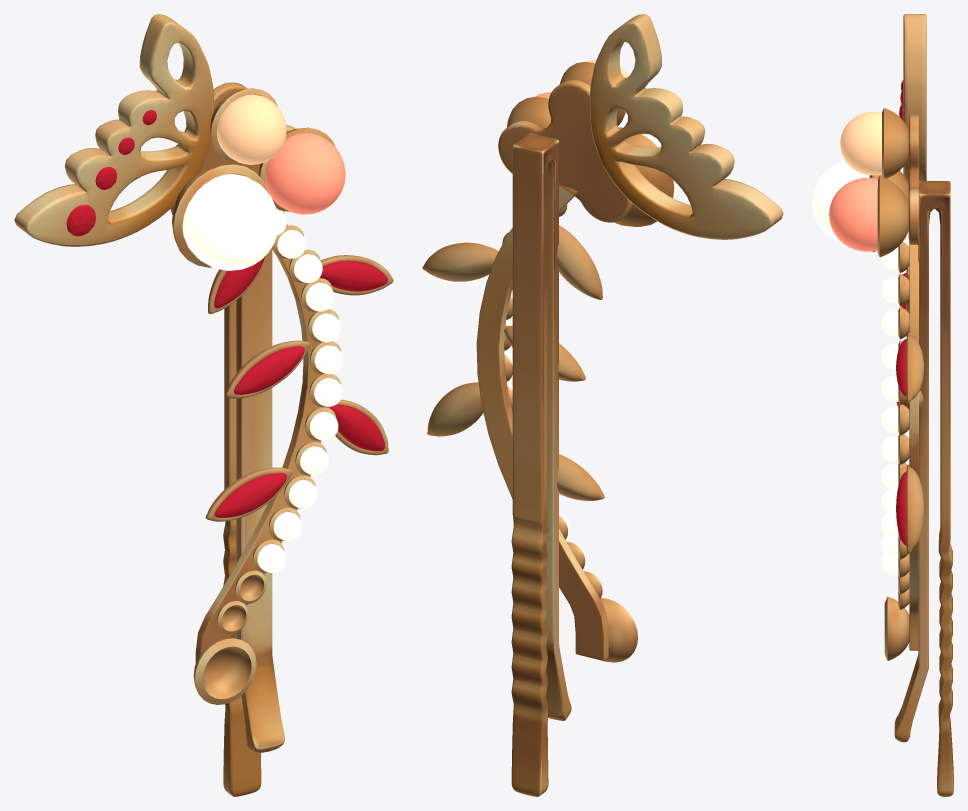
3 views of the same model, side by side, from view 1: azimuth 30°, elevation 25°; view 2: azimuth 150°, elevation 25°; view 3: azimuth 270°, elevation 25° (orthographic). The views are drawn at different scales.
Parts seen in each view (by area): view 1: hairakuse; view 2: hairakuse; view 3: hairakuse.
Boxes of the visible parts, x1,y1,x2,y2 form: hairakuse: [14, 14, 393, 796]; hairakuse: [422, 14, 783, 796]; hairakuse: [812, 14, 953, 796].
Size of the model in its own units: 72.64 by 152 by 26.6.
